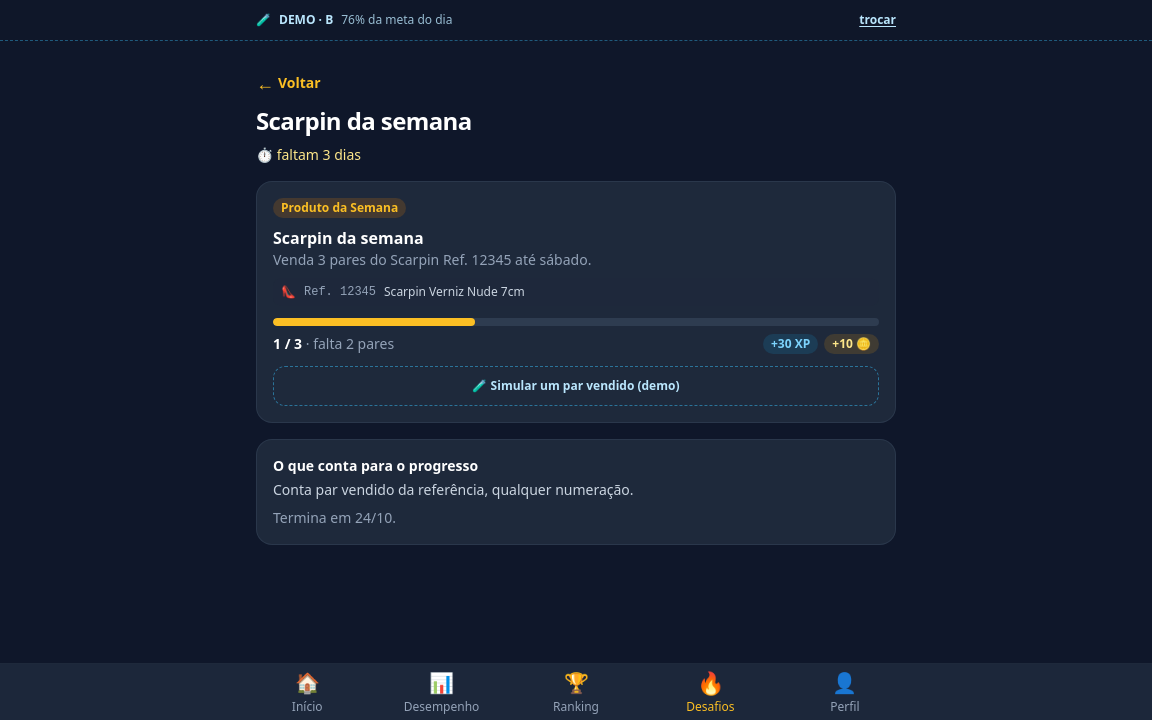
it: Fase 1 — navegação mobile com Voltar explícito › link direto para um detalhe (sem histórico) volta para a tela-mãe
Expected: the heading "O que conta para o progresso" is shown, [273,456,478,475]
Click the button "← Voltar": {"x": 288, "y": 83} [248,61,329,105]
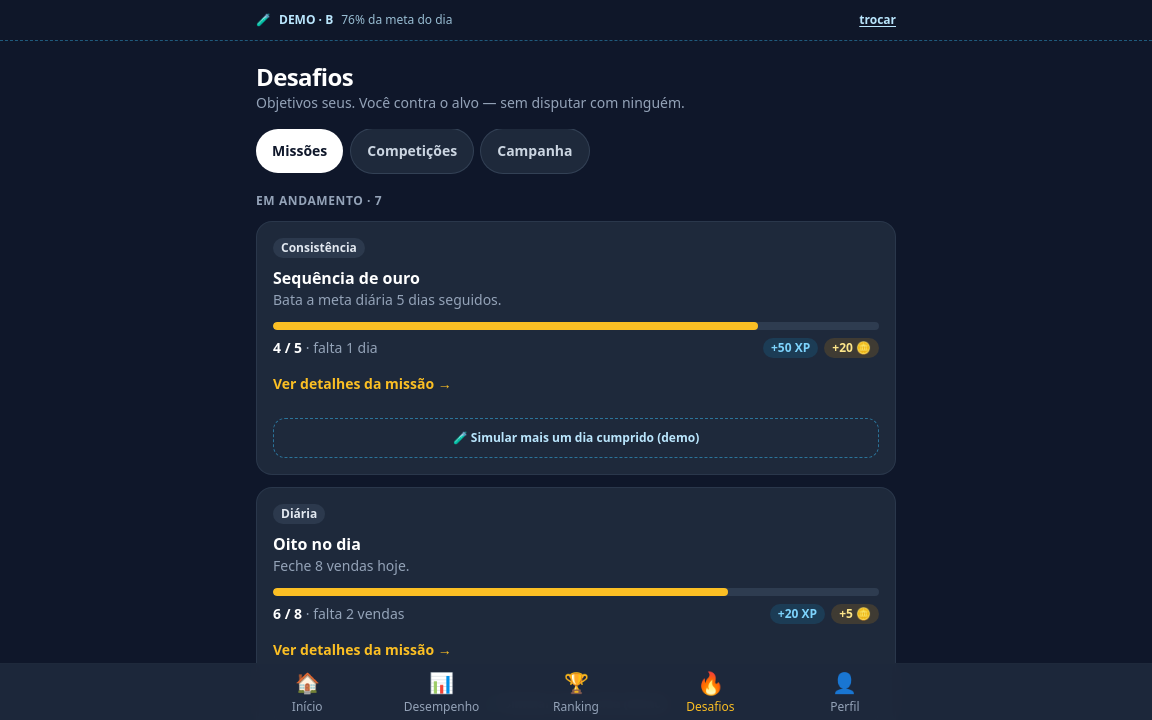
Now the tab "Missões" is shown, box [256,129,343,173]
